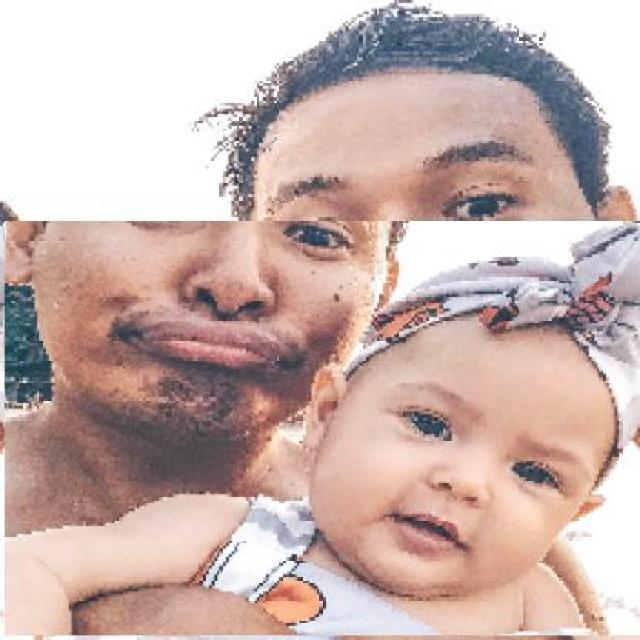child: (3, 220, 640, 637)
